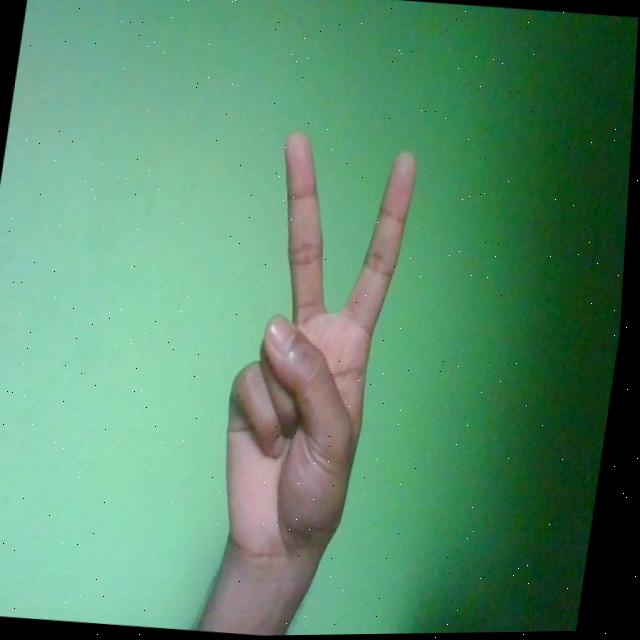Peace: (211, 127, 425, 574)
